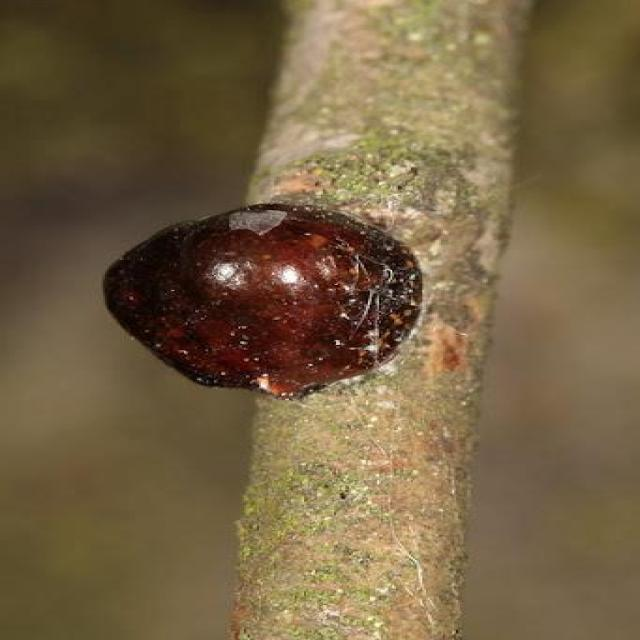BlackScale: (104, 201, 420, 400)
